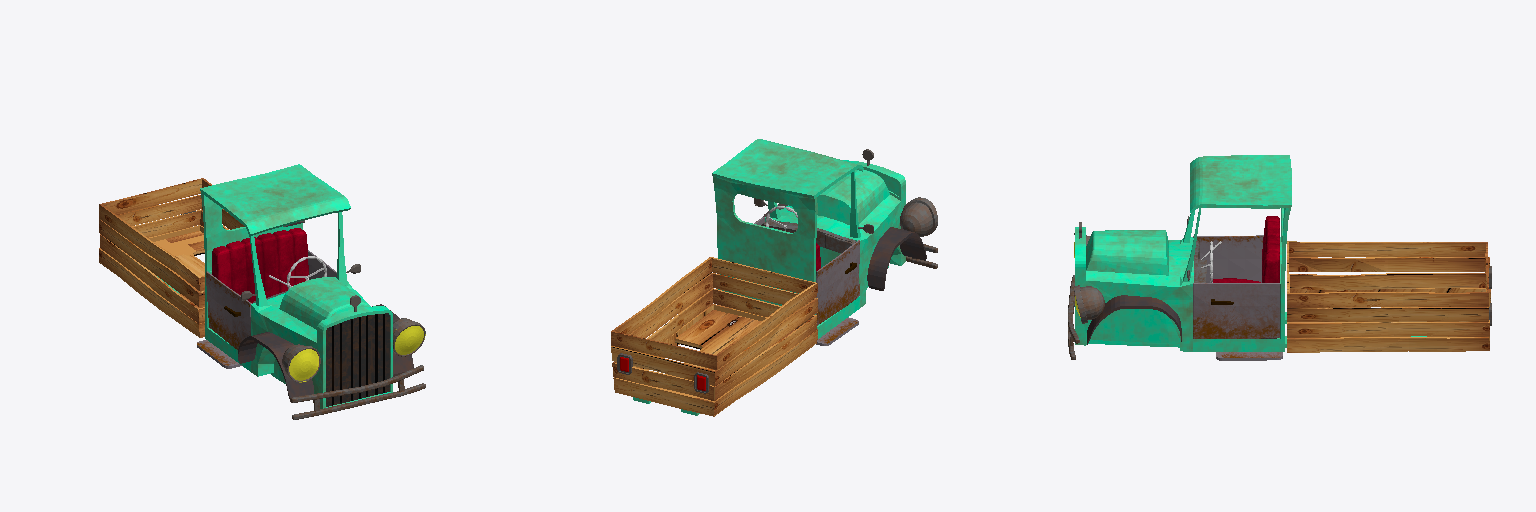
The picture shows the model from 3 angles: view 1: azimuth 30°, elevation 25°; view 2: azimuth 150°, elevation 25°; view 3: azimuth 270°, elevation 25°; orthographic projection.
Visible parts, largest first — view 1: truck.001; view 2: truck.001; view 3: truck.001.
Part boxes in pixels (x1,y1,x2,y2): truck.001: (99,164,425,419); truck.001: (611,139,937,416); truck.001: (1068,155,1491,360).
Bounding box in the file's own units: 8.32 × 8.72 × 22.01.
13 materials, 9 textured.